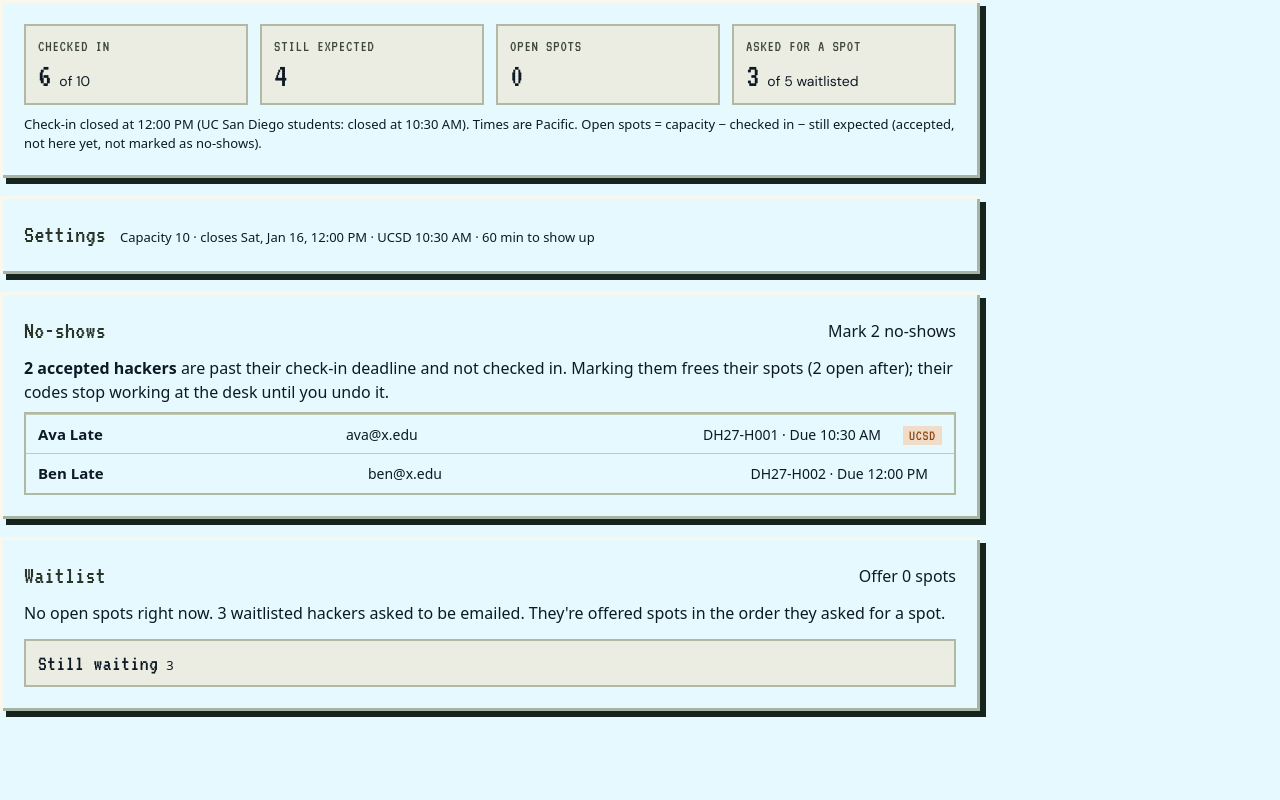
Test: Day-of page › marks no-shows only after confirming, and can undo
Later steps or results of the test are not shown.
Click the button "Mark 2 no-shows" at (892, 331), box left=828, top=319, right=956, bottom=343
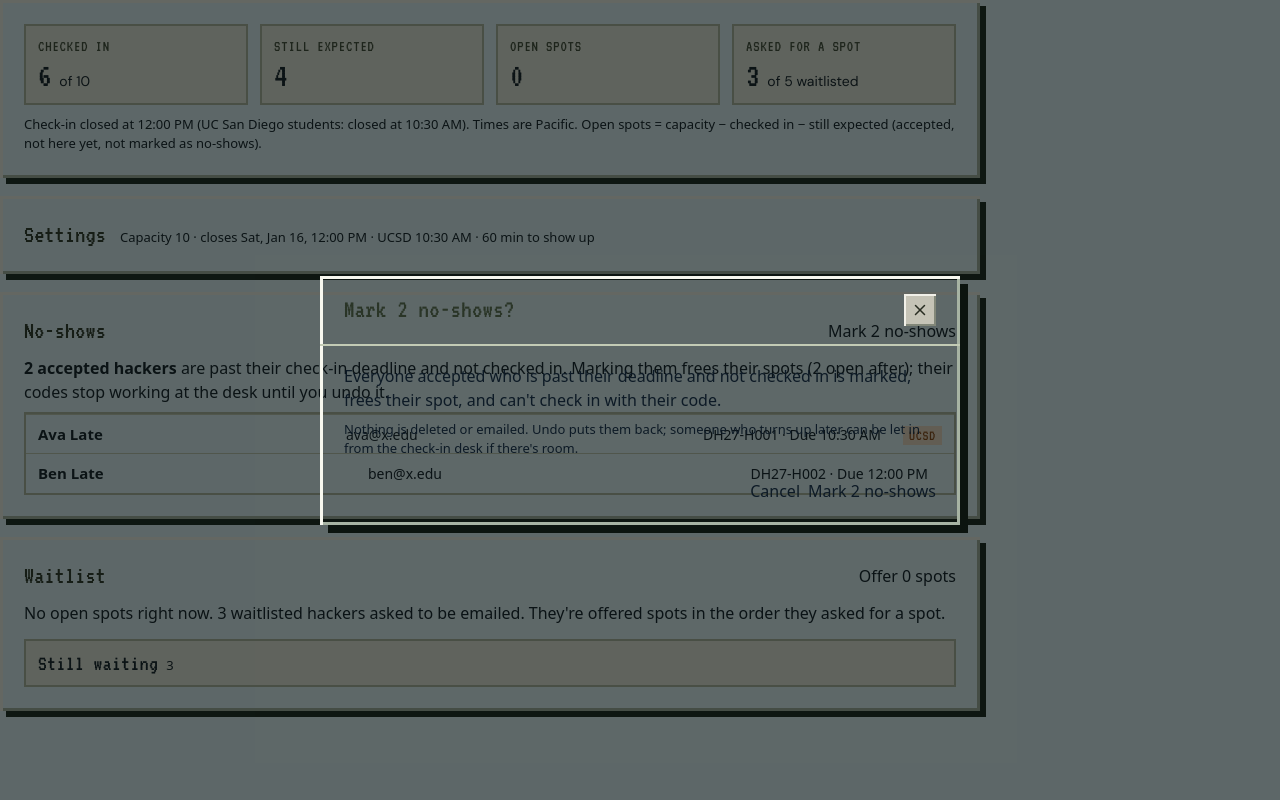
Click the button "Mark 2 no-shows" at (872, 490), box left=808, top=478, right=936, bottom=502
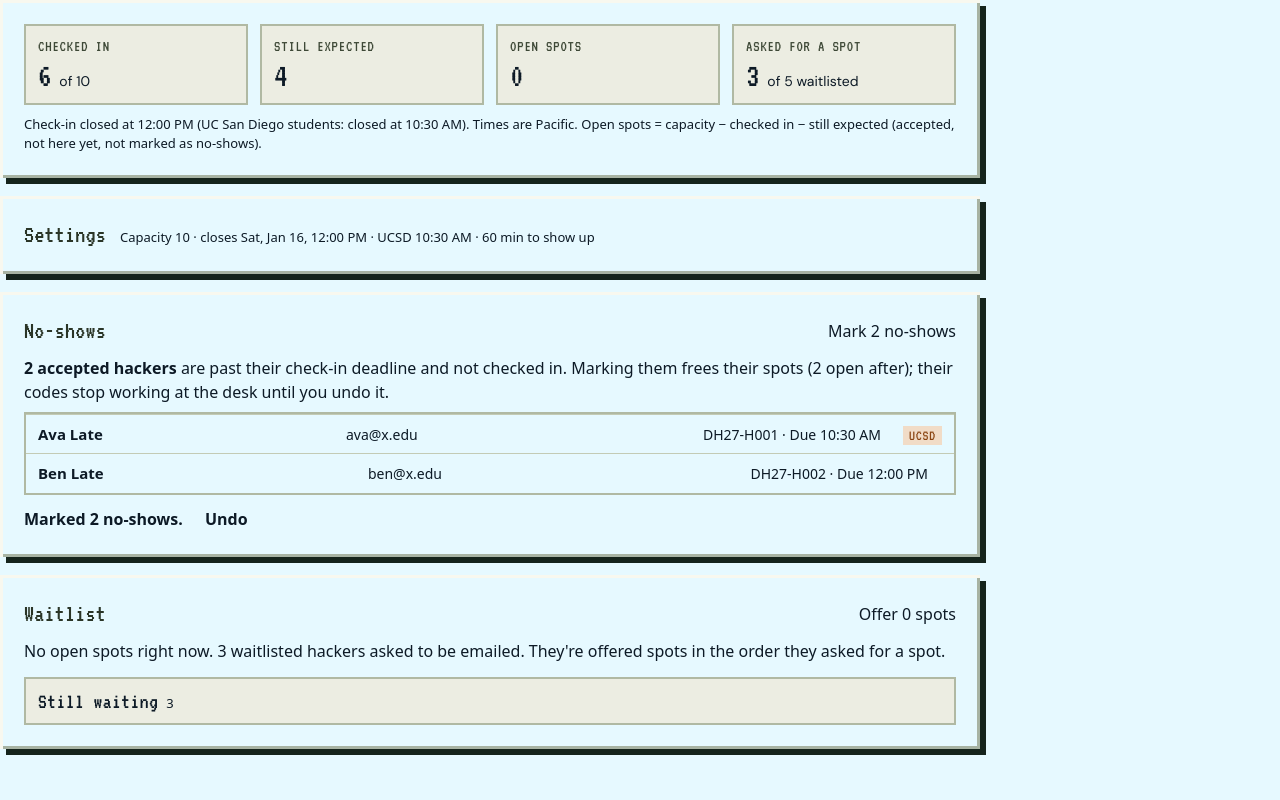
Now the text "Marked 2 no-shows." is shown, box left=24, top=508, right=183, bottom=530
